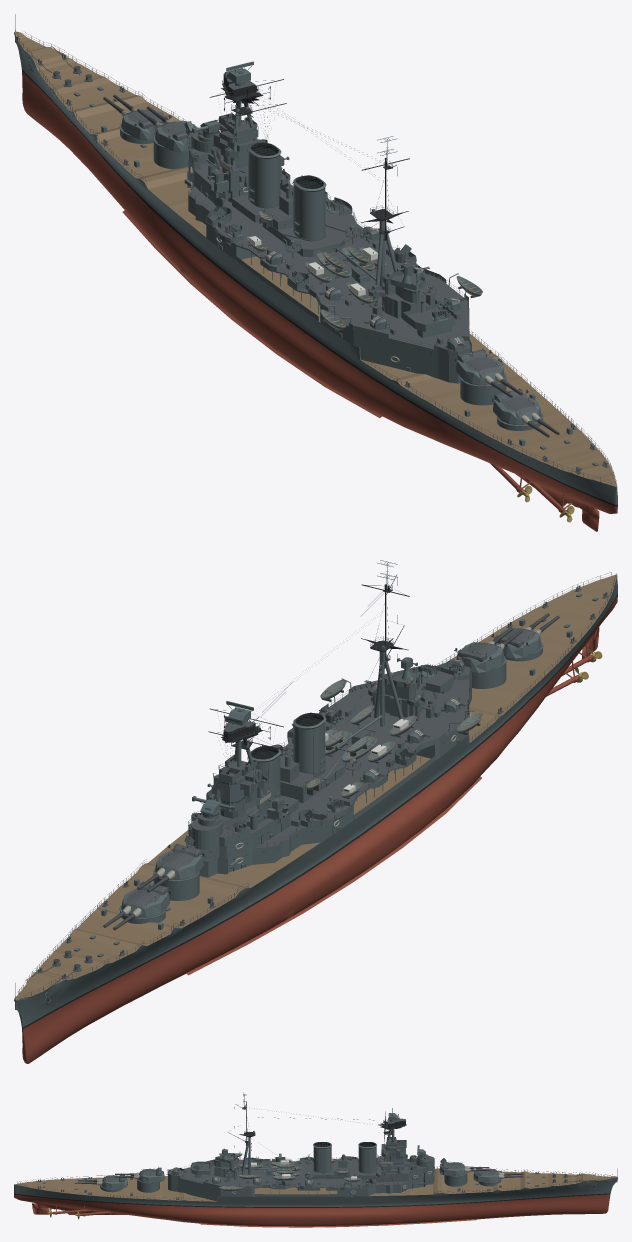
File: hood.glb
3 renders of one model, top to bottom at view 1: azimuth 30°, elevation 25°; view 2: azimuth 150°, elevation 25°; view 3: azimuth 270°, elevation 25°, orthographic. The views are drawn at different scales.
Parts seen in each view (by area): view 1: Hood original section hull, shelter-deck-aft.mesh, shelter-deck-well-roof.mesh, shelter-deck-forward.mesh, shelter-deck-midships.mesh, forward-funnel root.mesh, after-funnel root.mesh, foremast.mesh, after-fittings.mesh, main-x.yaw.mesh, mainmast.mesh, deck-rails.mesh (+11 smaller); view 2: Hood original section hull, shelter-deck-forward.mesh, shelter-deck-midships.mesh, shelter-deck-well-roof.mesh, after-funnel root.mesh, bridge-fittings.mesh, mainmast.mesh, foremast.mesh, main-b.yaw.mesh, after-fittings.mesh, main-a.yaw.mesh, bilge-keel-1.mesh (+9 smaller); view 3: Hood original section hull, shelter-deck-forward.mesh, shelter-deck-aft.mesh, shelter-deck-well-roof.mesh, shelter-deck-midships.mesh, forward-funnel root.mesh, after-funnel root.mesh, bridge-fittings.mesh, bilge-keel--1.mesh, after-fittings.mesh, shelter-deck-well.mesh, foremast.mesh (+11 smaller).
Part boxes in pixels (bbox=[...]): Hood original section hull: bbox=[14, 31, 617, 515]; shelter-deck-aft.mesh: bbox=[360, 305, 471, 383]; shelter-deck-well-roof.mesh: bbox=[236, 216, 432, 305]; shelter-deck-forward.mesh: bbox=[187, 171, 352, 260]; shelter-deck-midships.mesh: bbox=[320, 277, 468, 347]; forward-funnel root.mesh: bbox=[247, 142, 281, 208]; after-funnel root.mesh: bbox=[292, 175, 326, 241]; foremast.mesh: bbox=[208, 73, 286, 169]; after-fittings.mesh: bbox=[188, 167, 469, 354]; main-x.yaw.mesh: bbox=[454, 348, 504, 385]; mainmast.mesh: bbox=[361, 158, 409, 302]; deck-rails.mesh: bbox=[17, 32, 616, 484]; Hood original section hull: bbox=[14, 574, 617, 1063]; shelter-deck-forward.mesh: bbox=[188, 794, 353, 877]; shelter-deck-midships.mesh: bbox=[321, 688, 468, 758]; shelter-deck-well-roof.mesh: bbox=[280, 720, 434, 804]; after-funnel root.mesh: bbox=[292, 712, 326, 776]; bridge-fittings.mesh: bbox=[188, 755, 318, 837]; mainmast.mesh: bbox=[361, 575, 409, 726]; foremast.mesh: bbox=[208, 708, 286, 797]; main-b.yaw.mesh: bbox=[155, 843, 205, 879]; after-fittings.mesh: bbox=[188, 664, 469, 861]; main-a.yaw.mesh: bbox=[121, 881, 171, 917]; bilge-keel-1.mesh: bbox=[186, 776, 481, 975]; Hood original section hull: bbox=[14, 1168, 617, 1227]; shelter-deck-forward.mesh: bbox=[337, 1160, 434, 1196]; shelter-deck-aft.mesh: bbox=[168, 1162, 217, 1201]; shelter-deck-well-roof.mesh: bbox=[254, 1159, 337, 1189]; shelter-deck-midships.mesh: bbox=[217, 1159, 254, 1196]; forward-funnel root.mesh: bbox=[358, 1142, 376, 1173]; after-funnel root.mesh: bbox=[313, 1142, 331, 1173]; bridge-fittings.mesh: bbox=[334, 1137, 425, 1177]; bilge-keel--1.mesh: bbox=[200, 1219, 477, 1227]; after-fittings.mesh: bbox=[190, 1153, 433, 1188]; shelter-deck-well.mesh: bbox=[254, 1137, 399, 1196]; foremast.mesh: bbox=[378, 1111, 406, 1164].
Bounding box in the file's own units: 37.1 × 57.55 × 262.
15 materials, 8 textured.
